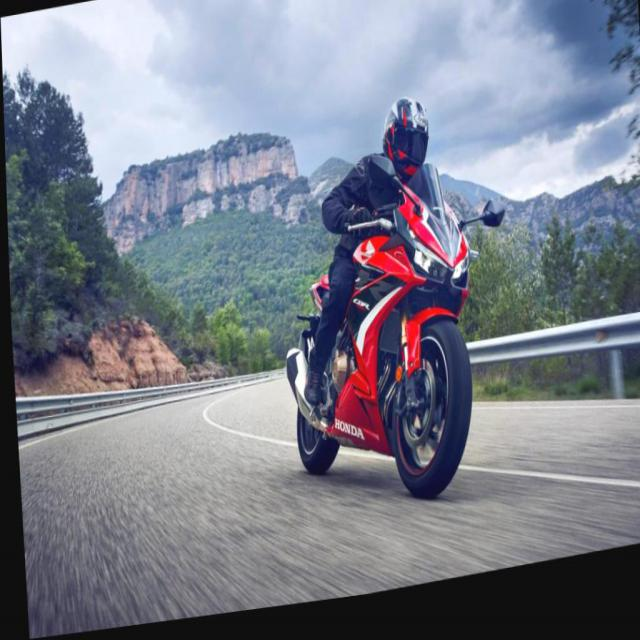CBR500R: (273, 144, 516, 530)
